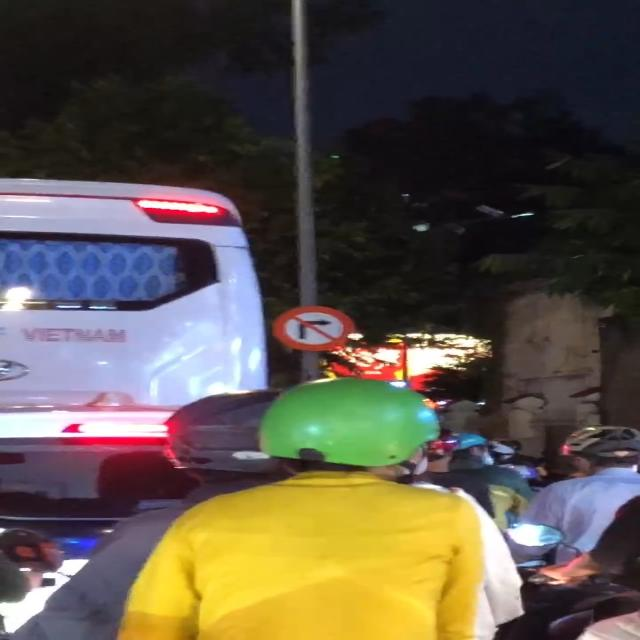Bien bao cam re phai: (267, 302, 359, 360)
